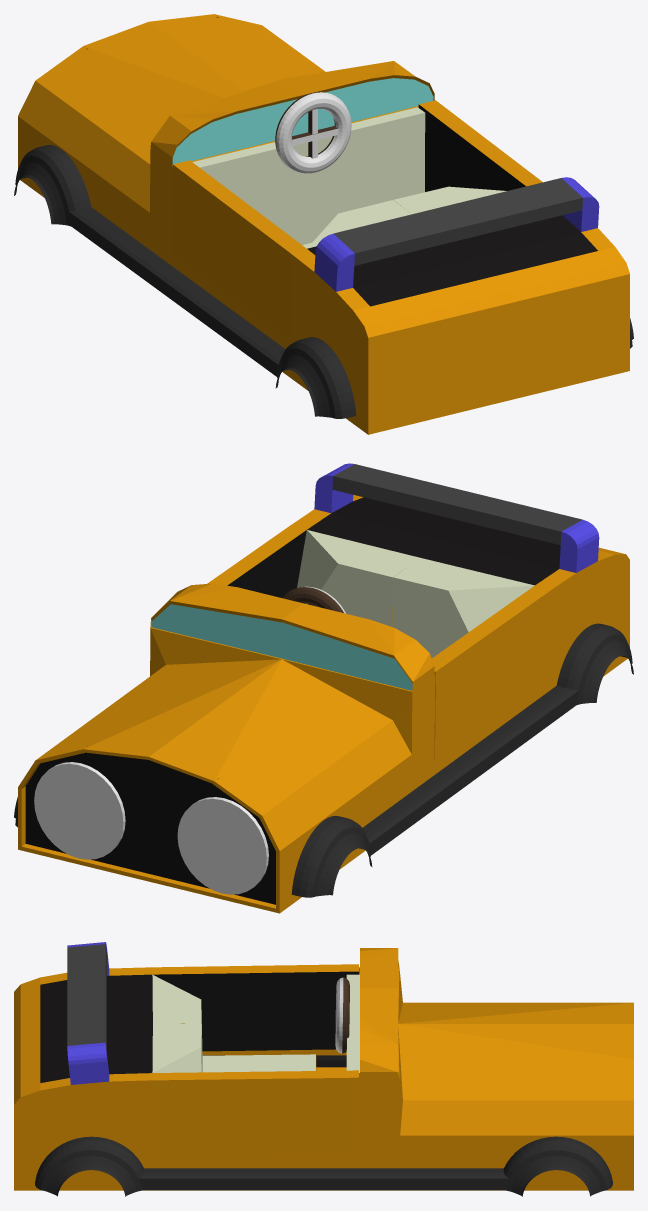
Rendered from kart (1).fbx.
The picture shows the model from 3 angles, top to bottom: view 1: azimuth 30°, elevation 25°; view 2: azimuth 150°, elevation 25°; view 3: azimuth 270°, elevation 25°; orthographic projection. The views are drawn at different scales.
Parts seen in each view (by area): view 1: Cube; view 2: Cube; view 3: Cube.
Boxes of the visible parts, <box> form: Cube: <box>14,14,633,434</box>; Cube: <box>14,463,633,913</box>; Cube: <box>14,942,633,1196</box>.
Size of the model in its own units: 720 by 371 by 1360.
